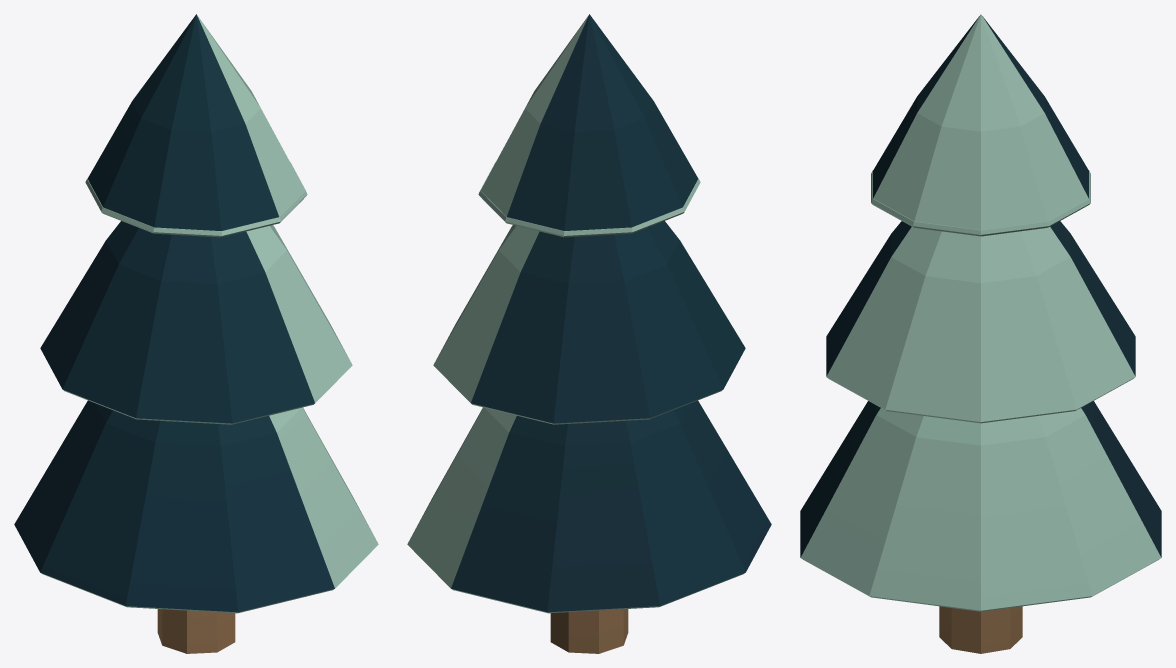
Rendered from pine.glb.
3 views of the same model, side by side, from view 1: azimuth 30°, elevation 25°; view 2: azimuth 150°, elevation 25°; view 3: azimuth 270°, elevation 25° (orthographic).
Parts seen in each view (by area): view 1: root_mesh; view 2: root_mesh; view 3: root_mesh.
Boxes of the visible parts, x1,y1,x2,y2 form: root_mesh: (14,14,378,653); root_mesh: (407,14,771,653); root_mesh: (800,14,1161,653).
Size of the model in its own units: 2.1 by 4 by 2.1.
